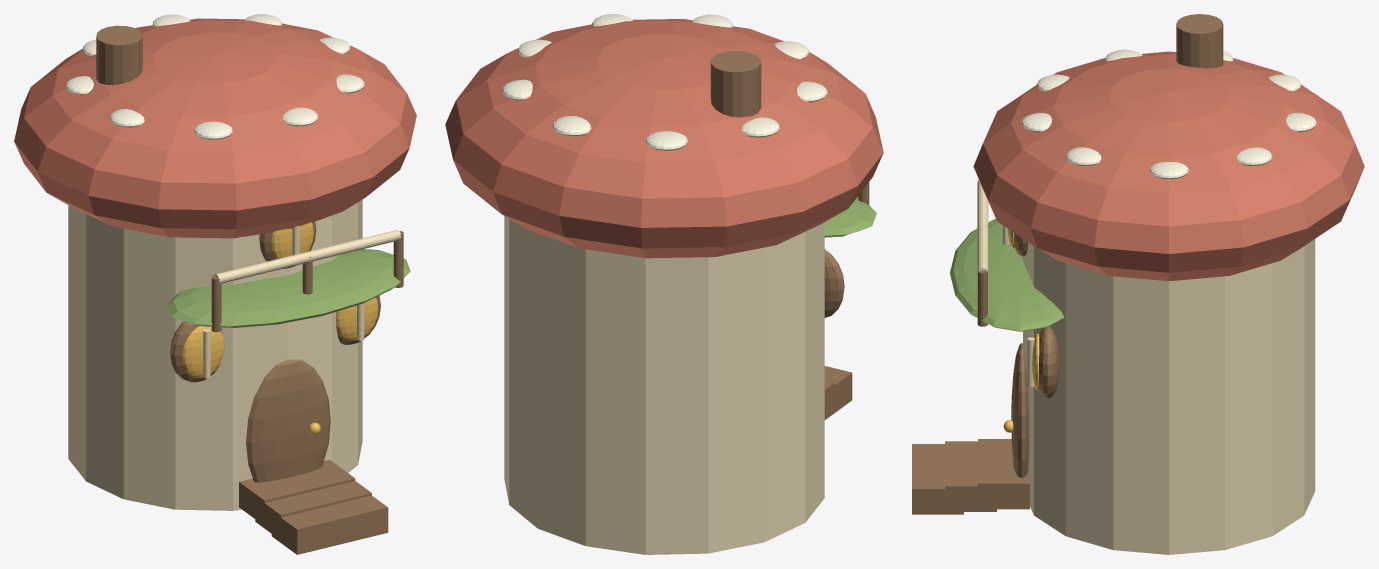
File: AntHome2.fbx
3 views of the same model, side by side, from view 1: azimuth 30°, elevation 25°; view 2: azimuth 150°, elevation 25°; view 3: azimuth 270°, elevation 25° (orthographic). The views are drawn at different scales.
Parts seen in each view (by area): view 1: Cap roof, Stump home, Upper leaf balcony, Door, Front step.002, Front step, Chimney, Front step.001, Balcony rail, Golden glass, Golden glass.001, Golden glass.002 (+6 smaller); view 2: Stump home, Cap roof, Chimney, Upper leaf balcony, Front step.002, Window frame, Ivory spot.003, Ivory spot.002, Ivory spot.004; view 3: Stump home, Cap roof, Upper leaf balcony, Front step.001, Front step, Front step.002, Chimney, Door, Window frame.001, Balcony rail, Balcony post.002, Ivory spot (+2 smaller).
Boxes of the visible parts, x1=… form: Cap roof: x1=14, y1=18, x2=416, y2=238; Stump home: x1=68, y1=199, x2=362, y2=510; Upper leaf balcony: x1=167, y1=249, x2=410, y2=327; Door: x1=246, y1=359, x2=330, y2=482; Front step.002: x1=271, y1=495, x2=388, y2=554; Front step: x1=239, y1=459, x2=355, y2=525; Chimney: x1=96, y1=25, x2=142, y2=85; Front step.001: x1=255, y1=481, x2=371, y2=540; Balcony rail: x1=214, y1=230, x2=401, y2=283; Golden glass: x1=182, y1=326, x2=224, y2=377; Golden glass.001: x1=336, y1=297, x2=378, y2=340; Golden glass.002: x1=271, y1=222, x2=313, y2=258; Stump home: x1=504, y1=216, x2=824, y2=554; Cap roof: x1=445, y1=19, x2=883, y2=258; Chimney: x1=710, y1=51, x2=761, y2=117; Upper leaf balcony: x1=824, y1=196, x2=876, y2=237; Front step.002: x1=824, y1=366, x2=852, y2=419; Window frame: x1=824, y1=249, x2=844, y2=317; Ivory spot.003: x1=645, y1=131, x2=687, y2=151; Ivory spot.002: x1=552, y1=116, x2=591, y2=136; Ivory spot.004: x1=741, y1=117, x2=779, y2=137; Stump home: x1=1023, y1=239, x2=1315, y2=554; Cap roof: x1=973, y1=51, x2=1364, y2=281; Upper leaf balcony: x1=950, y1=218, x2=1064, y2=331; Front step.001: x1=945, y1=441, x2=996, y2=511; Front step: x1=978, y1=439, x2=1029, y2=509; Front step.002: x1=912, y1=444, x2=963, y2=514; Chimney: x1=1176, y1=14, x2=1223, y2=68; Door: x1=1011, y1=343, x2=1029, y2=477; Window frame.001: x1=1039, y1=326, x2=1059, y2=399; Balcony rail: x1=977, y1=180, x2=988, y2=273; Balcony post.002: x1=977, y1=271, x2=987, y2=326; Ivory spot: x1=1149, y1=162, x2=1188, y2=179.
Size of the model in its own units: 176 by 200 by 192.
